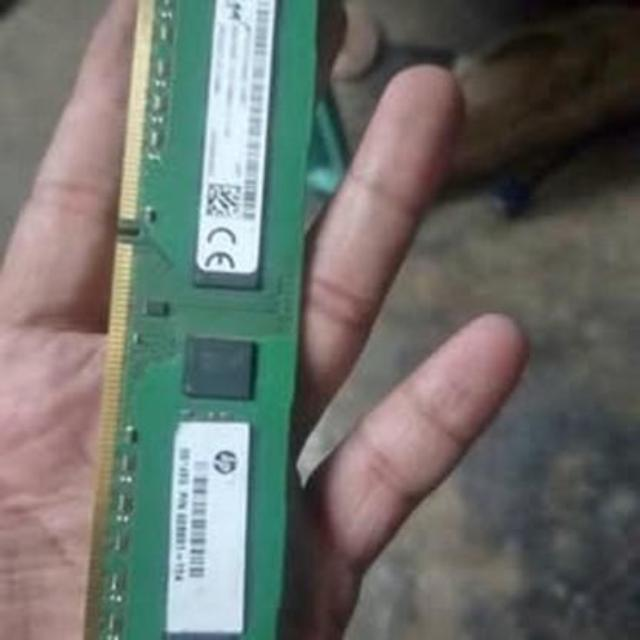RAM: (82, 0, 313, 640)
